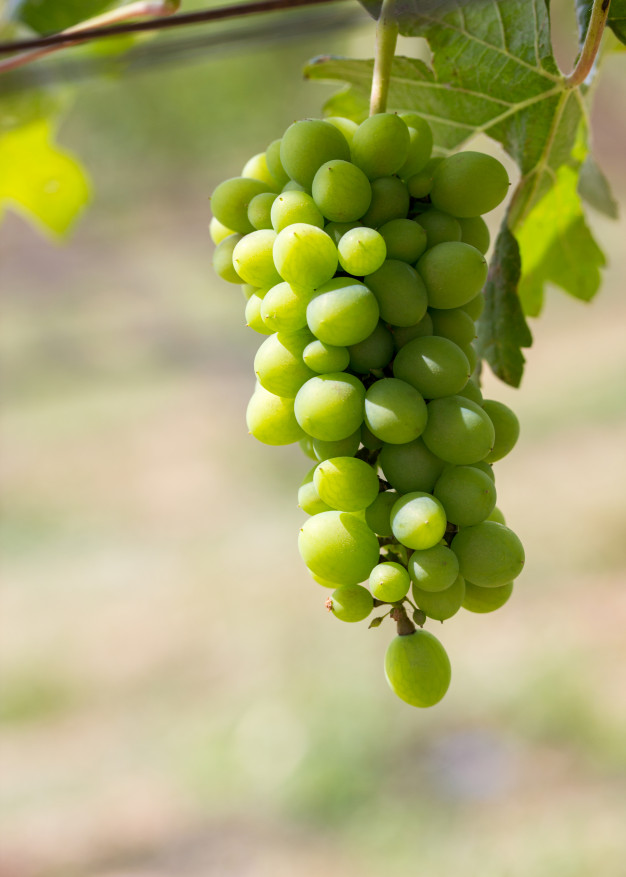grapes: (220, 97, 570, 725)
